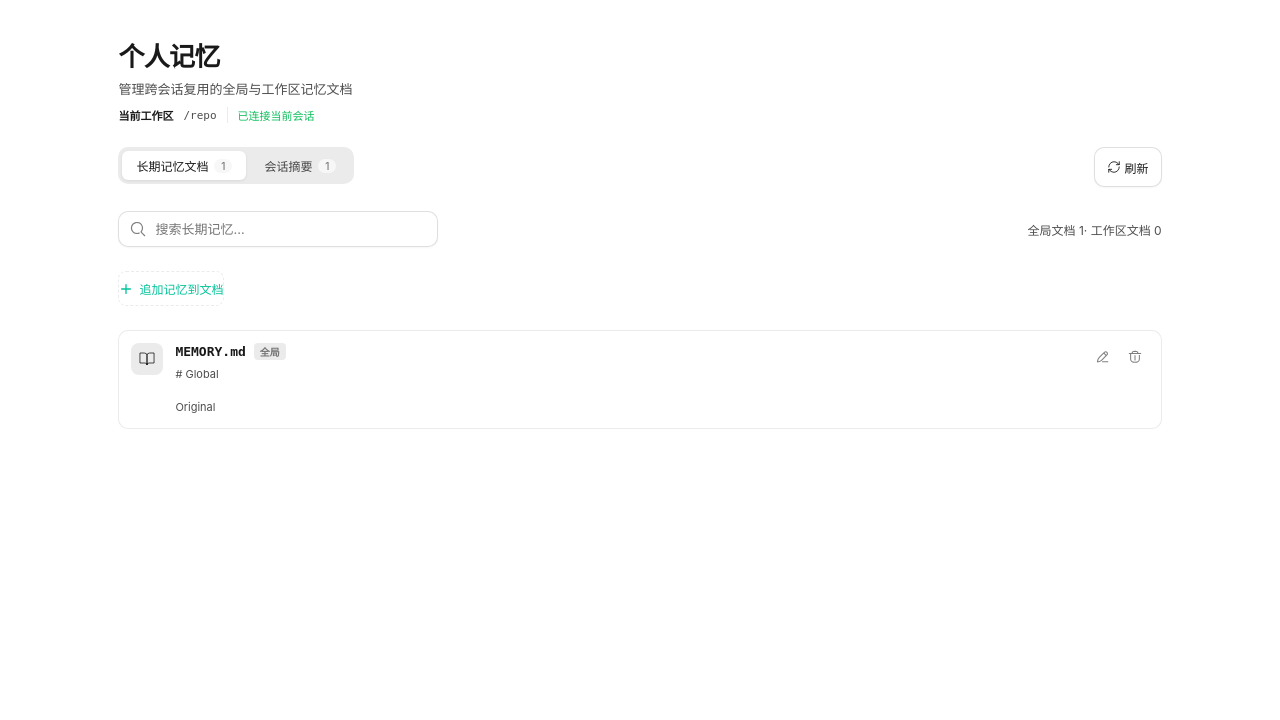
Test: ResourcesPanel › 文件已保存但索引更新失败时刷新列表并准确提示
This screenshot has width=1280, height=720.
Expected: the text "MEMORY.md" is shown, [175,344,246,359]
Click the button titled "编辑" at (1103, 357), box [1089,343,1117,371]
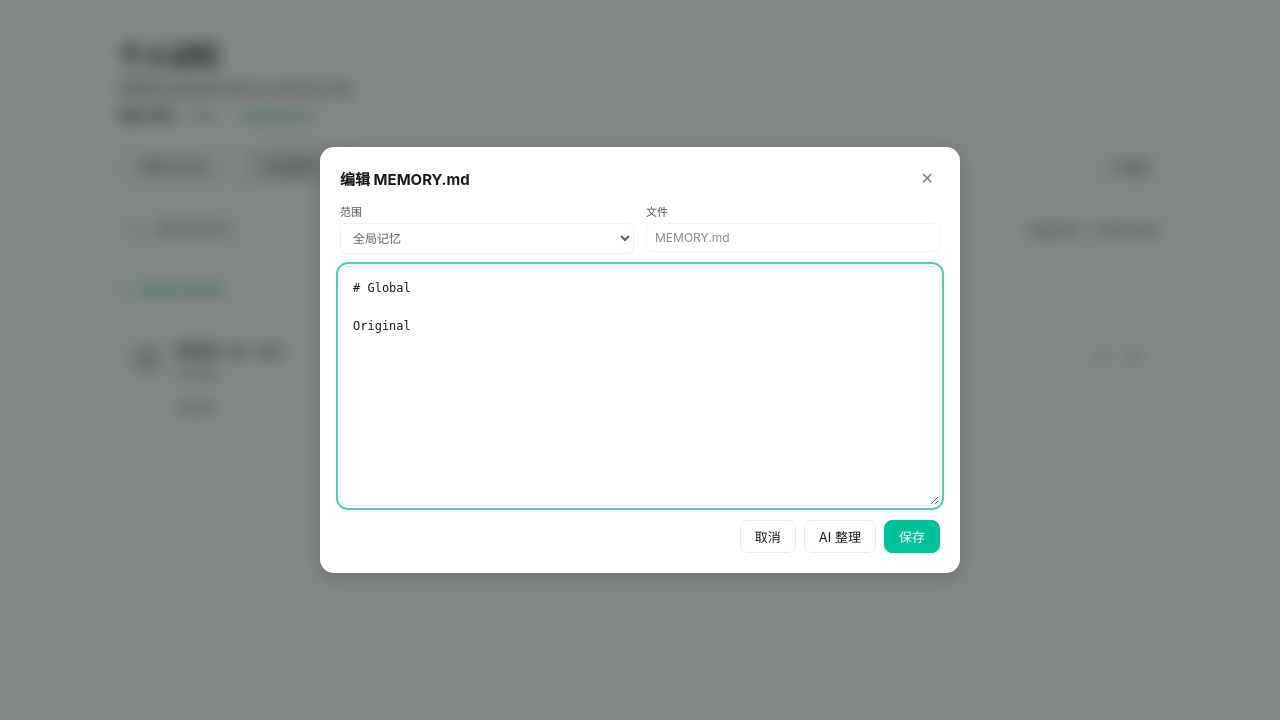
Click the button "保存" at (912, 536), box [884,520,940,553]
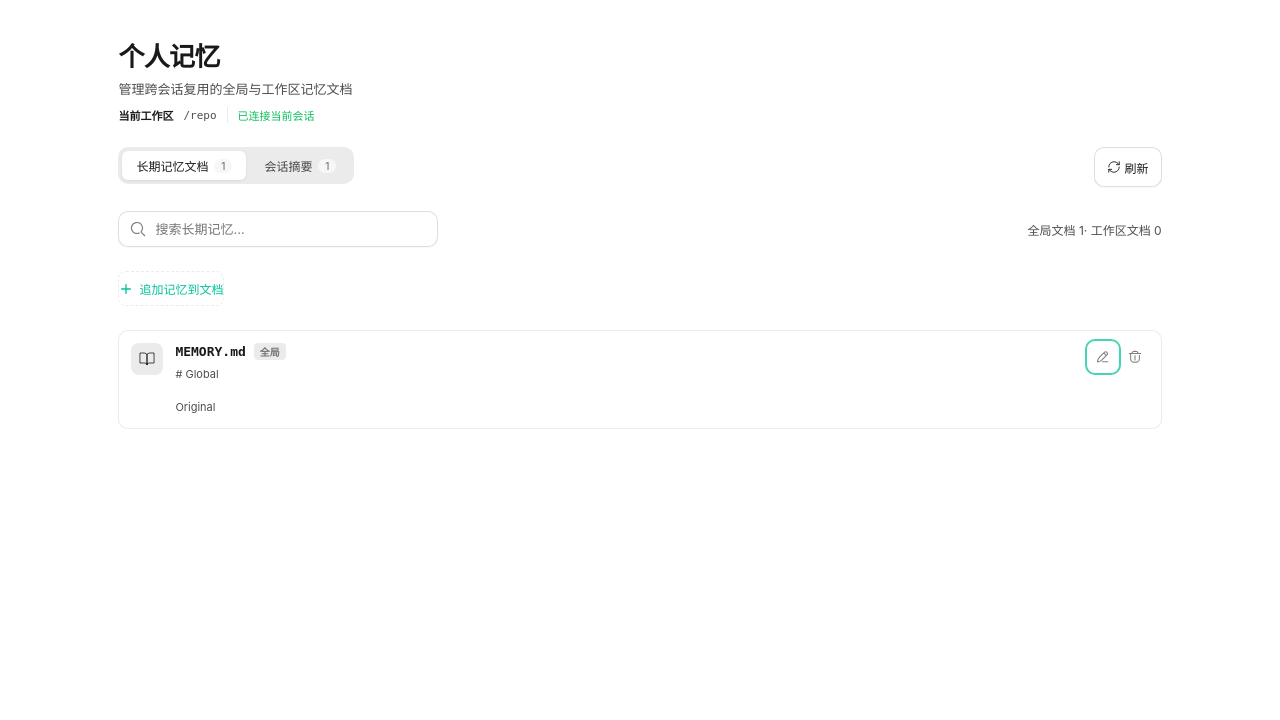
Expected: the heading "编辑 MEMORY.md" is gone
